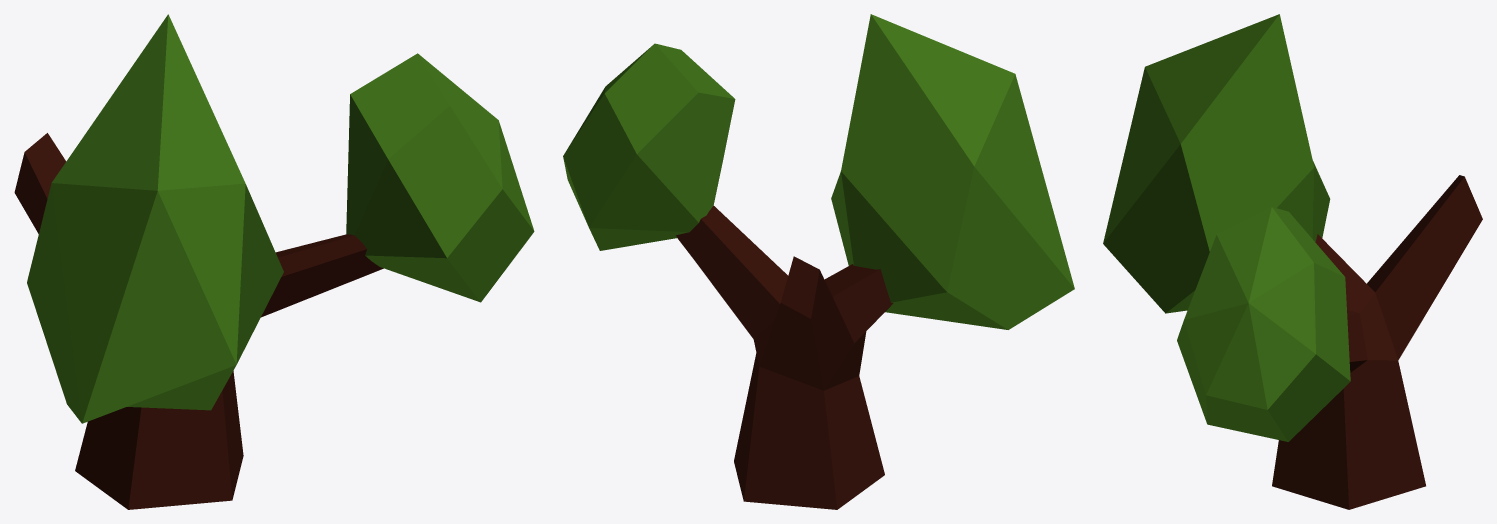
Rendered from SmallTree03.FBX.
3 renders of one model, left to right at view 1: azimuth 30°, elevation 25°; view 2: azimuth 150°, elevation 25°; view 3: azimuth 270°, elevation 25°, orthographic. The views are drawn at different scales.
Parts seen in each view (by area): view 1: Cylinder002; view 2: Cylinder002; view 3: Cylinder002.
Boxes of the visible parts, x1,y1,x2,y2 form: Cylinder002: [14, 14, 534, 509]; Cylinder002: [563, 14, 1074, 509]; Cylinder002: [1103, 14, 1482, 509].
Bounding box in the file's own units: 10.29 × 7.53 × 9.76.
